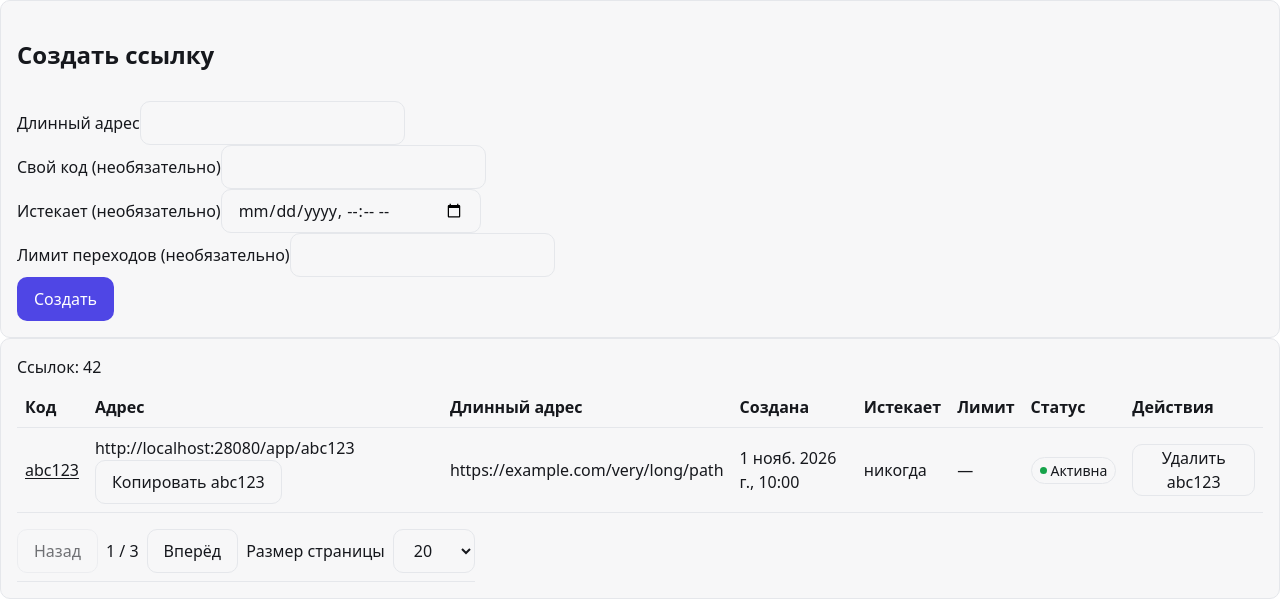
LinksPage › пагинация: «Вперёд» меняет страницу в URL и уходит серверу, «Назад» заблокирован
This screenshot has width=1280, height=616.
expect the button "Назад" is disabled: met, box x1=17 y1=529 x2=98 y2=573
expect the dropdown labelled "Размер страницы" shows "20": met, box x1=393 y1=529 x2=475 y2=573
Click the button "Вперёд": (192, 551) x1=146 y1=529 x2=238 y2=573
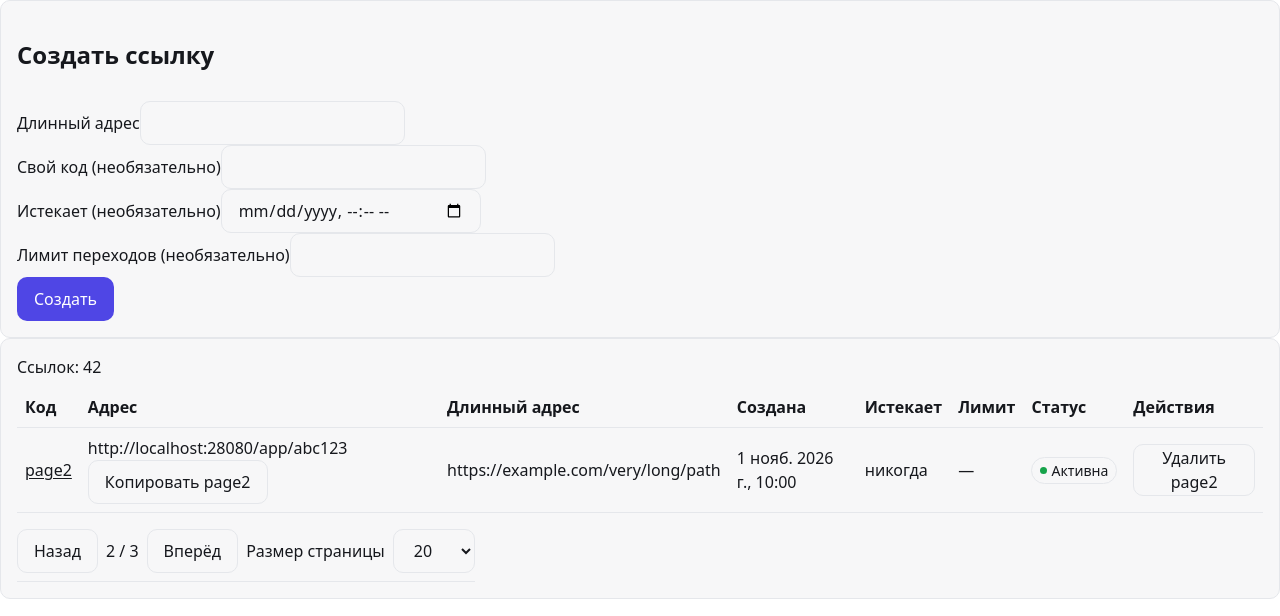
expect the button "Назад" is enabled: met, box x1=17 y1=529 x2=98 y2=573
